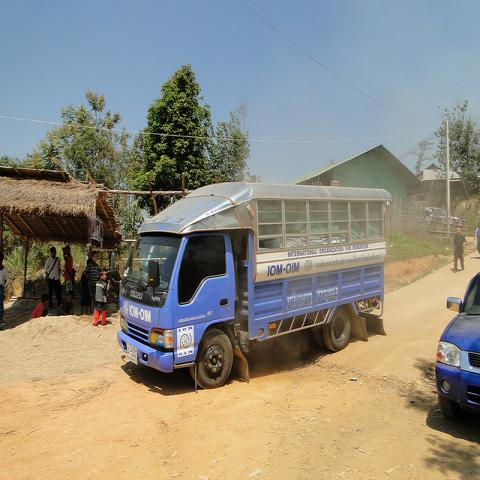car: (435, 271, 479, 421)
truck: (110, 180, 389, 390)
